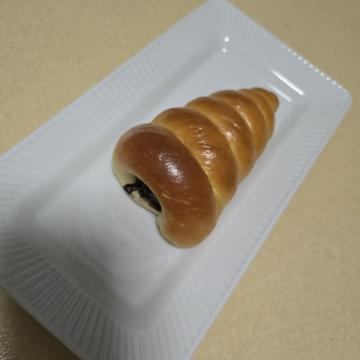cream horn: (60, 67, 278, 259)
